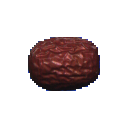gd: (22, 18, 103, 104)
